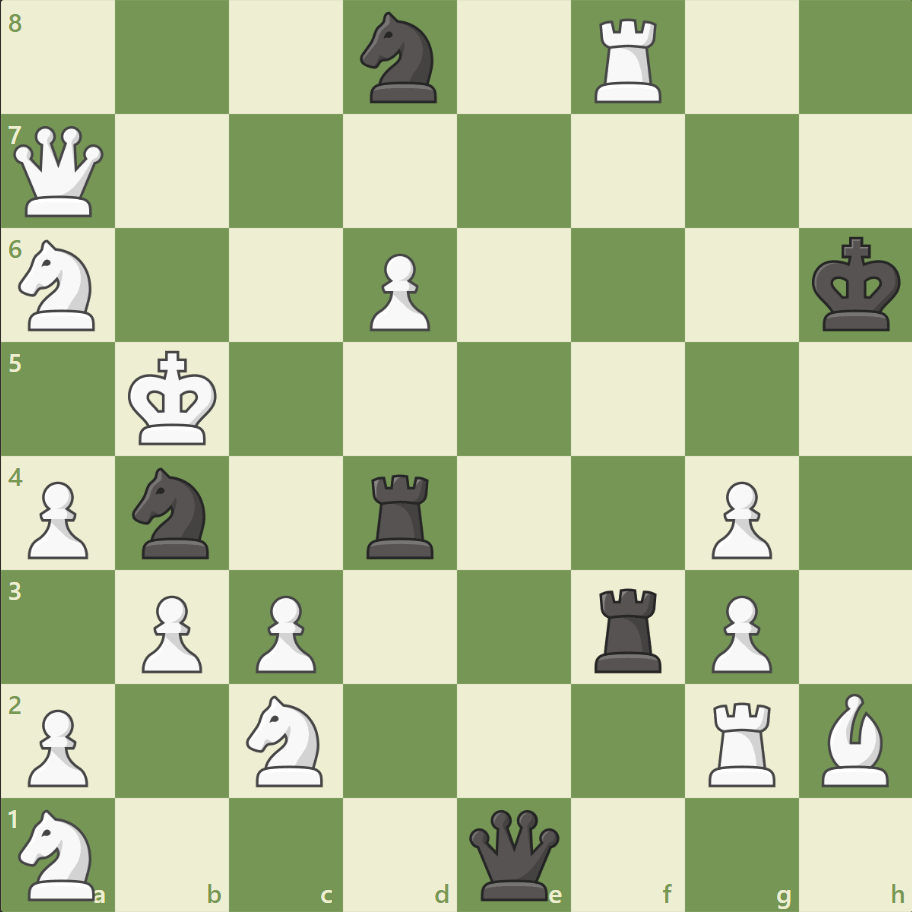B: (812, 687, 896, 790)
K: (124, 344, 224, 452)
N: (11, 234, 108, 337), (238, 688, 335, 791), (11, 802, 108, 904)
P: (20, 473, 95, 564), (701, 473, 776, 564), (133, 586, 208, 677), (247, 586, 322, 677), (701, 586, 776, 677), (20, 700, 95, 791), (361, 246, 435, 337)
Q: (10, 122, 109, 222)
R: (587, 12, 670, 109), (700, 693, 783, 790)
k: (806, 231, 906, 339)
n: (351, 7, 449, 110), (124, 461, 222, 564)
q: (464, 804, 563, 903)
r: (587, 579, 670, 676), (360, 466, 442, 563)
